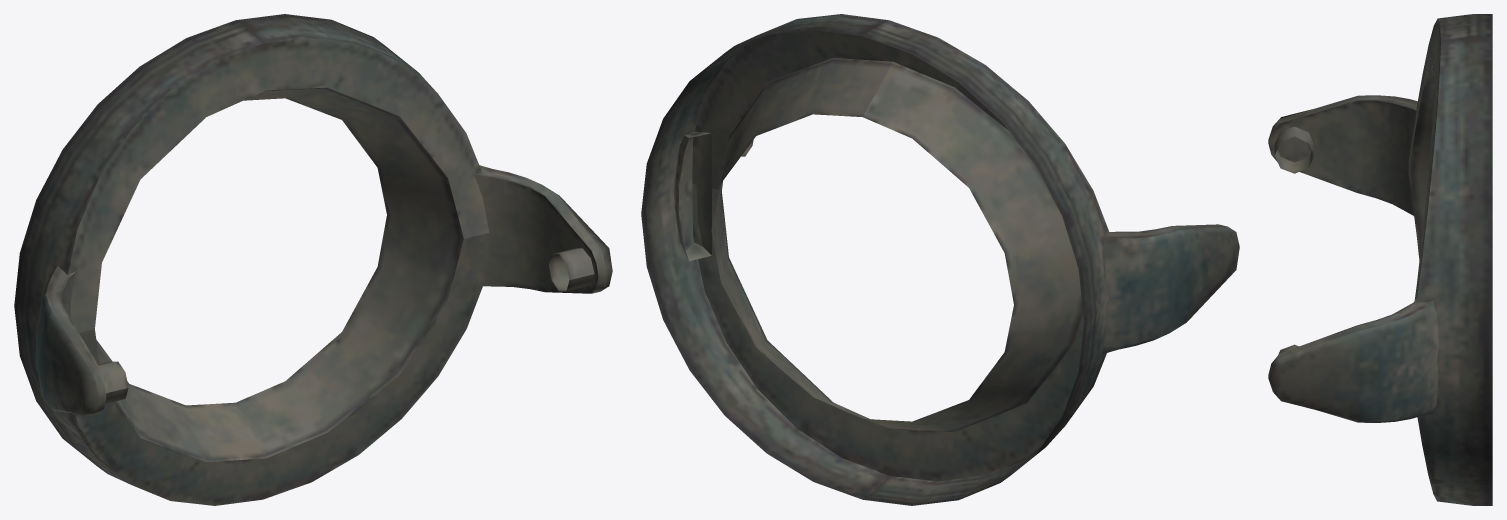
File: Turret_01.glb
The picture shows the model from 3 angles, left to right: view 1: azimuth 30°, elevation 25°; view 2: azimuth 150°, elevation 25°; view 3: azimuth 270°, elevation 25°; orthographic projection. The views are drawn at different scales.
Visible parts, largest first — view 1: set_0_group_0; view 2: set_0_group_0; view 3: set_0_group_0.
Part boxes in pixels (box(x1,y1,x2,y2)): set_0_group_0: box(14, 14, 612, 505); set_0_group_0: box(641, 14, 1239, 505); set_0_group_0: box(1268, 14, 1492, 505).
Size of the model in its own units: 1.19 by 1 by 0.4565.
Materials: 1 (1 with a texture image).
